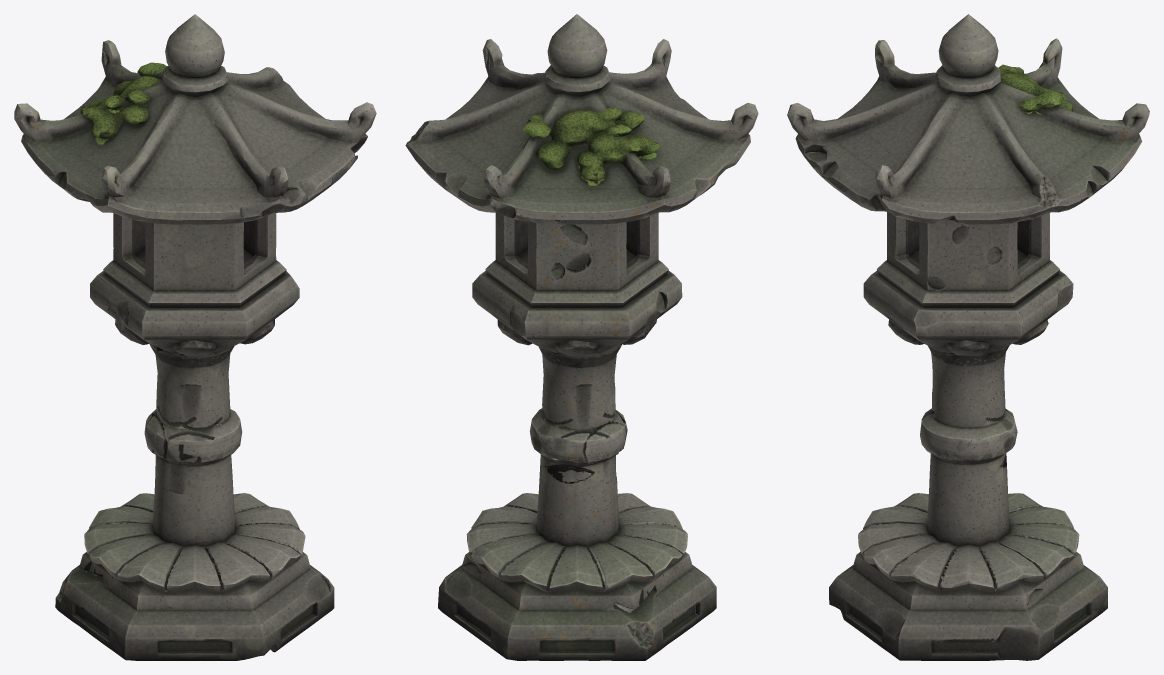
Rendered from stone_lantern.glb.
3 views of the same model, side by side, from view 1: azimuth 30°, elevation 25°; view 2: azimuth 150°, elevation 25°; view 3: azimuth 270°, elevation 25° (orthographic).
Parts seen in each view (by area): view 1: stone_lantern_LOD0; view 2: stone_lantern_LOD0; view 3: stone_lantern_LOD0.
Boxes of the visible parts, x1,y1,x2,y2 form: stone_lantern_LOD0: (14,14,376,660); stone_lantern_LOD0: (405,14,758,660); stone_lantern_LOD0: (787,14,1149,660).
Size of what is drawn, in the model's own units: 1.28 by 2.67 by 1.47.
2 materials, 2 textured.
